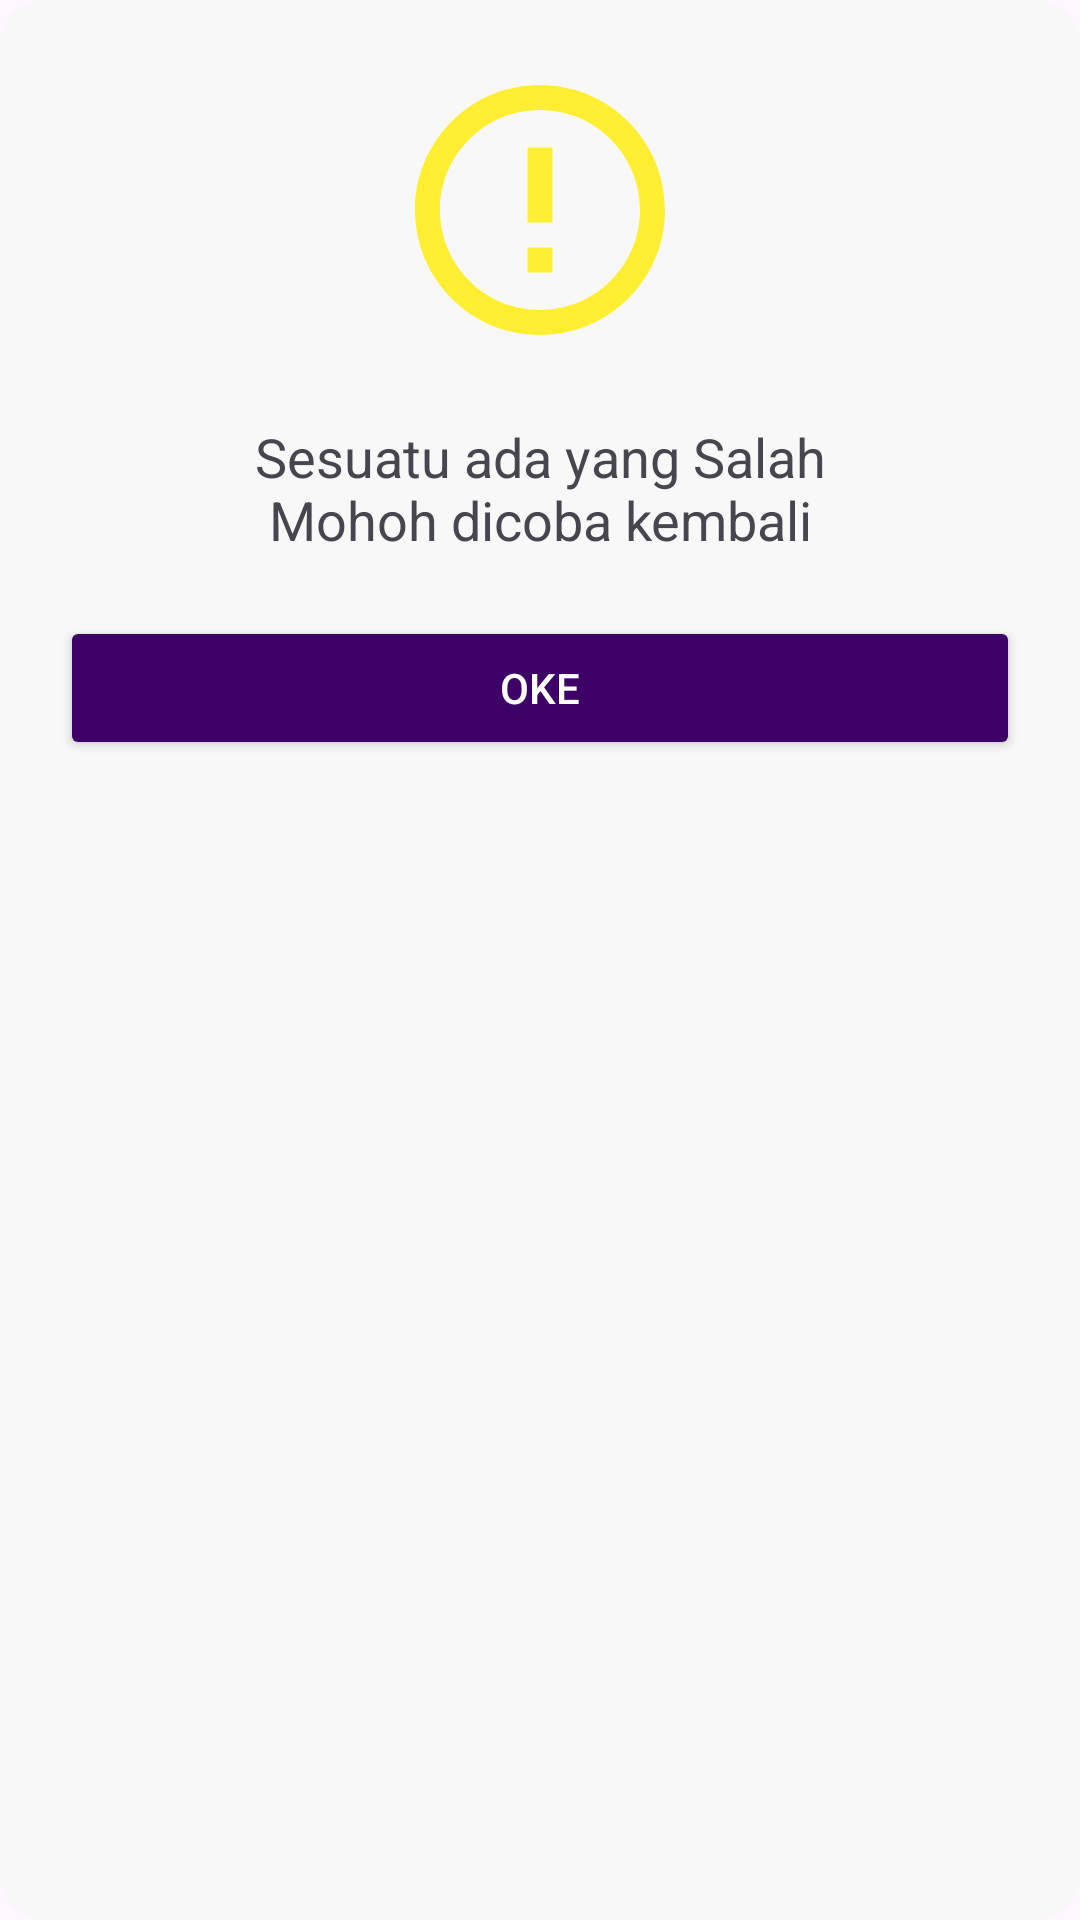

Screen size 1080*1920. Icon name, then its box in pixels as (x1,y1,x2,y2):
gambar respon: (415,85,665,335)
